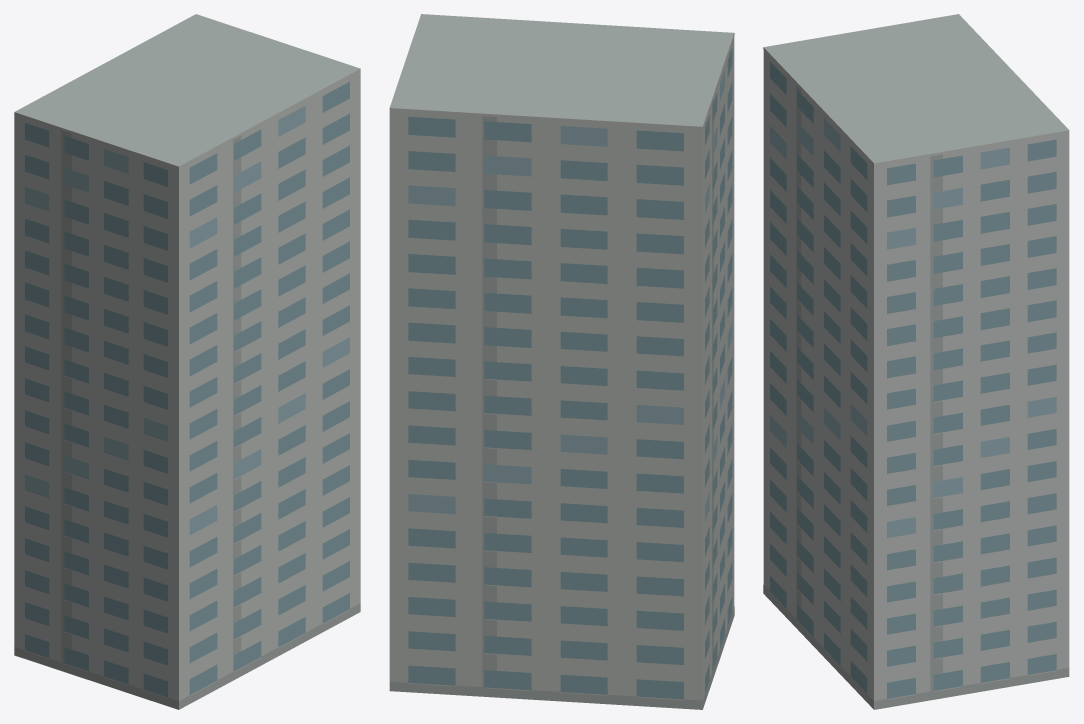
File: residential-11ba8c72-16bc-44d7-9363-90e32730779a.glb
The picture shows the model from 3 angles, left to right: view 1: azimuth 30°, elevation 25°; view 2: azimuth 150°, elevation 25°; view 3: azimuth 270°, elevation 25°; orthographic projection. The views are drawn at different scales.
Parts seen in each view (by area): view 1: residential-11ba8c72-16bc-44d7-9363-90e32730779a.tmp; view 2: residential-11ba8c72-16bc-44d7-9363-90e32730779a.tmp; view 3: residential-11ba8c72-16bc-44d7-9363-90e32730779a.tmp.
Part boxes in pixels (bbox=[...]): residential-11ba8c72-16bc-44d7-9363-90e32730779a.tmp: bbox=[14, 14, 360, 709]; residential-11ba8c72-16bc-44d7-9363-90e32730779a.tmp: bbox=[389, 14, 734, 709]; residential-11ba8c72-16bc-44d7-9363-90e32730779a.tmp: bbox=[763, 14, 1069, 709].
Size of the model in its own units: 30.5 by 52 by 26.39.
